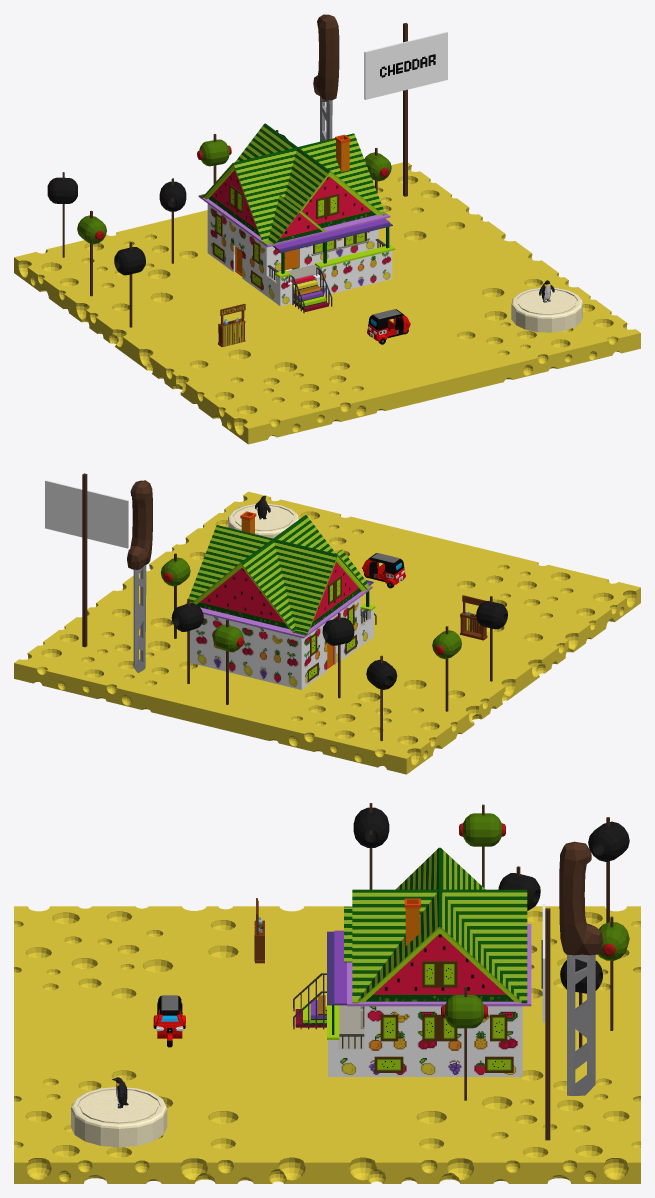
The picture shows the model from 3 angles, top to bottom: view 1: azimuth 30°, elevation 25°; view 2: azimuth 150°, elevation 25°; view 3: azimuth 270°, elevation 25°; orthographic projection. The views are drawn at different scales.
Parts seen in each view (by area): view 1: Cube.022, Cube.1063, Cube.023, Cylinder.016, Cube.024, VEHICLES_TUC_TUC, Sphere.017, OBJRANDOM_LEMONADE_STAND, Sphere.016, Sphere.020, Sphere.018, Sphere.022 (+1 smaller); view 2: Cube.022, Cube.1063, Cube.023, Cube.024, Cylinder.016, VEHICLES_TUC_TUC, Sphere.017, Sphere.020, Sphere.021, Sphere.016, Sphere.018, Sphere.022 (+2 smaller); view 3: Cube.022, Cube.1063, Cube.024, Cylinder.016, Cube.023, Sphere.019, Sphere.016, Sphere.018, Sphere.017, VEHICLES_TUC_TUC, Sphere.022, Sphere.020 (+2 smaller).
Part boxes in pixels (<box>): Cube.022: <box>14,162,640,444</box>; Cube.1063: <box>198,123,395,313</box>; Cube.023: <box>364,23,447,196</box>; Cylinder.016: <box>511,287,582,332</box>; Cube.024: <box>313,14,339,141</box>; VEHICLES_TUC_TUC: <box>367,309,410,344</box>; Sphere.017: <box>114,242,145,327</box>; OBJRANDOM_LEMONADE_STAND: <box>218,303,245,346</box>; Sphere.016: <box>47,172,77,257</box>; Sphere.020: <box>159,178,186,263</box>; Sphere.018: <box>77,210,106,296</box>; Sphere.022: <box>197,134,231,183</box>; Cube.022: <box>14,491,640,774</box>; Cube.1063: <box>185,511,376,689</box>; Cube.023: <box>45,473,128,647</box>; Cube.024: <box>127,480,152,672</box>; Cylinder.016: <box>228,503,298,538</box>; VEHICLES_TUC_TUC: <box>362,553,405,588</box>; Sphere.017: <box>476,596,507,681</box>; Sphere.020: <box>322,612,354,698</box>; Sphere.021: <box>171,598,203,683</box>; Sphere.016: <box>366,655,397,741</box>; Sphere.018: <box>432,626,461,711</box>; Sphere.022: <box>212,619,244,704</box>; Cube.022: <box>14,906,640,1183</box>; Cube.1063: <box>293,847,531,1076</box>; Cube.024: <box>559,841,602,1095</box>; Cylinder.016: <box>71,1087,167,1147</box>; Cube.023: <box>541,904,550,1140</box>; Sphere.019: <box>441,986,487,1100</box>; Sphere.016: <box>588,817,629,922</box>; Sphere.018: <box>459,804,505,887</box>; Sphere.017: <box>353,803,389,889</box>; VEHICLES_TUC_TUC: <box>153,995,185,1047</box>; Sphere.022: <box>598,916,629,1030</box>; Sphere.020: <box>498,866,540,910</box>.
Bounding box in the file's own units: 3917 × 2007 × 4000.
40 materials, 5 textured.
